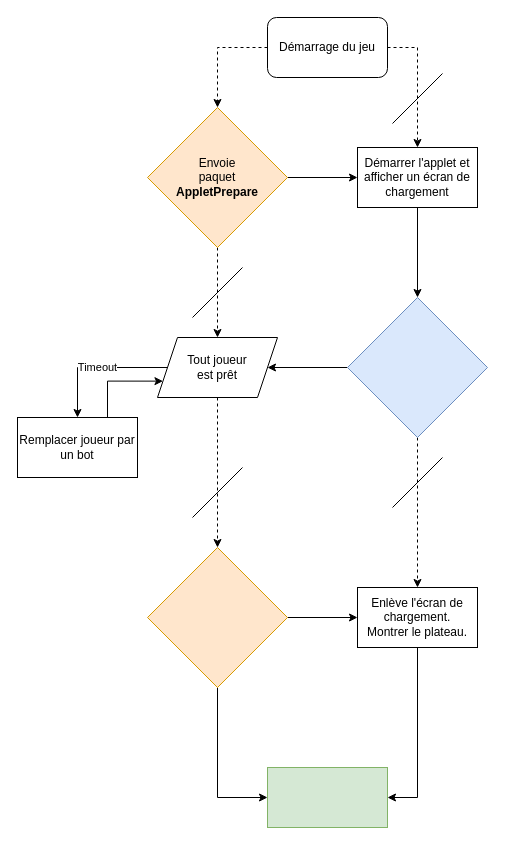
Image size: 505x845. Some labels were removed from this diagram. The centre of each missing label's shape, as x and y in pixels:
Envoie paquet AppletReady: [417,367]
Envoie paquet GameStart: [217,617]
Voir début jeu: [327,797]
